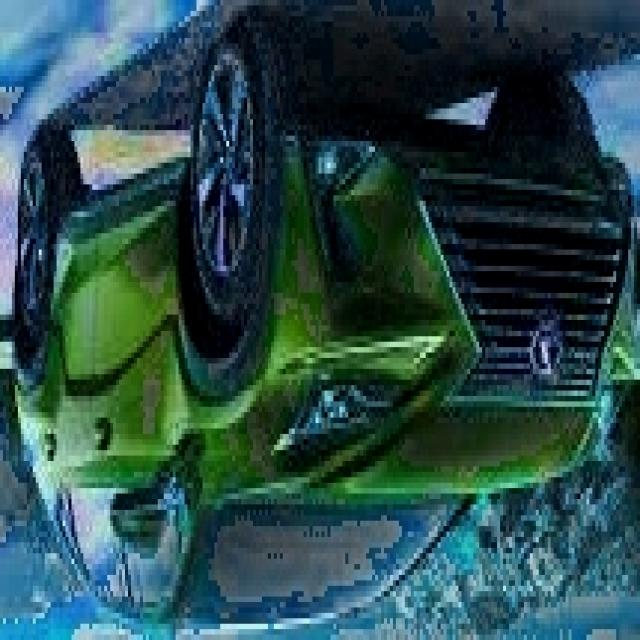green: (9, 98, 640, 640)
